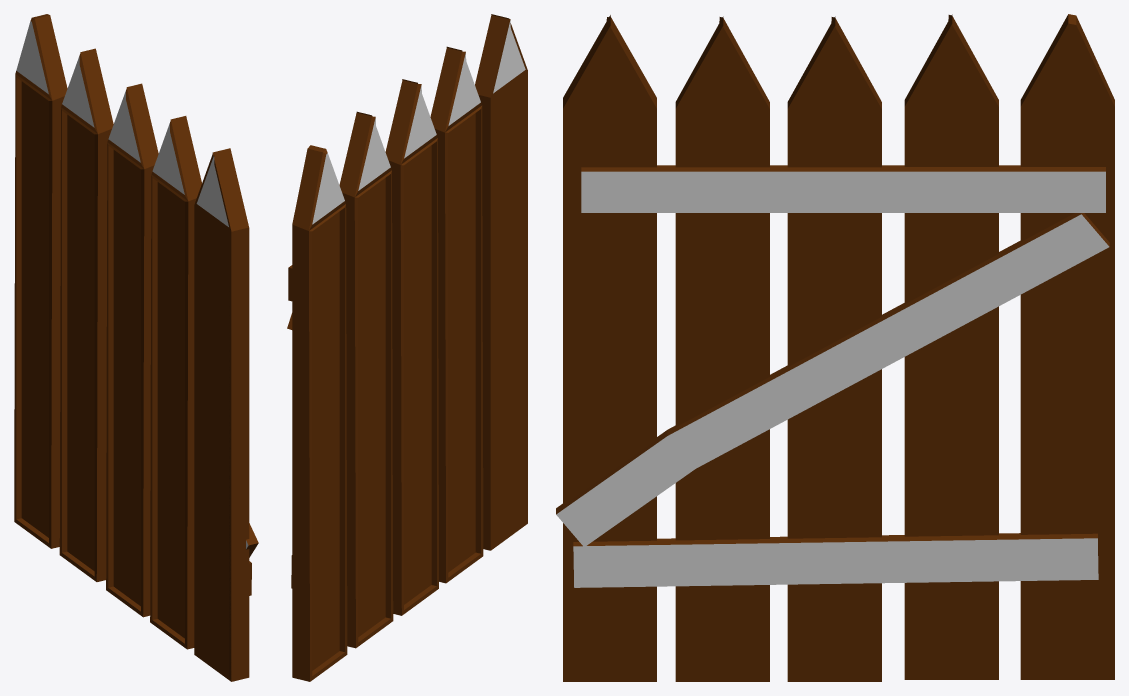
Rendered from Furtka .fbx.
3 views of the same model, side by side, from view 1: azimuth 30°, elevation 25°; view 2: azimuth 150°, elevation 25°; view 3: azimuth 270°, elevation 25° (orthographic). The views are drawn at different scales.
Visible parts, largest first — view 1: Cube; view 2: Cube; view 3: Cube.
Boxes of the visible parts, box(x1,y1,x2,y2) form: Cube: box(14, 14, 258, 681); Cube: box(287, 14, 527, 681); Cube: box(556, 14, 1114, 681).
Bounding box in the file's own units: 42.05 × 831 × 639.
